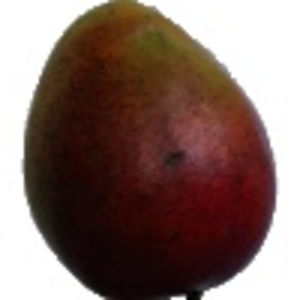manga: (23, 1, 278, 300)
